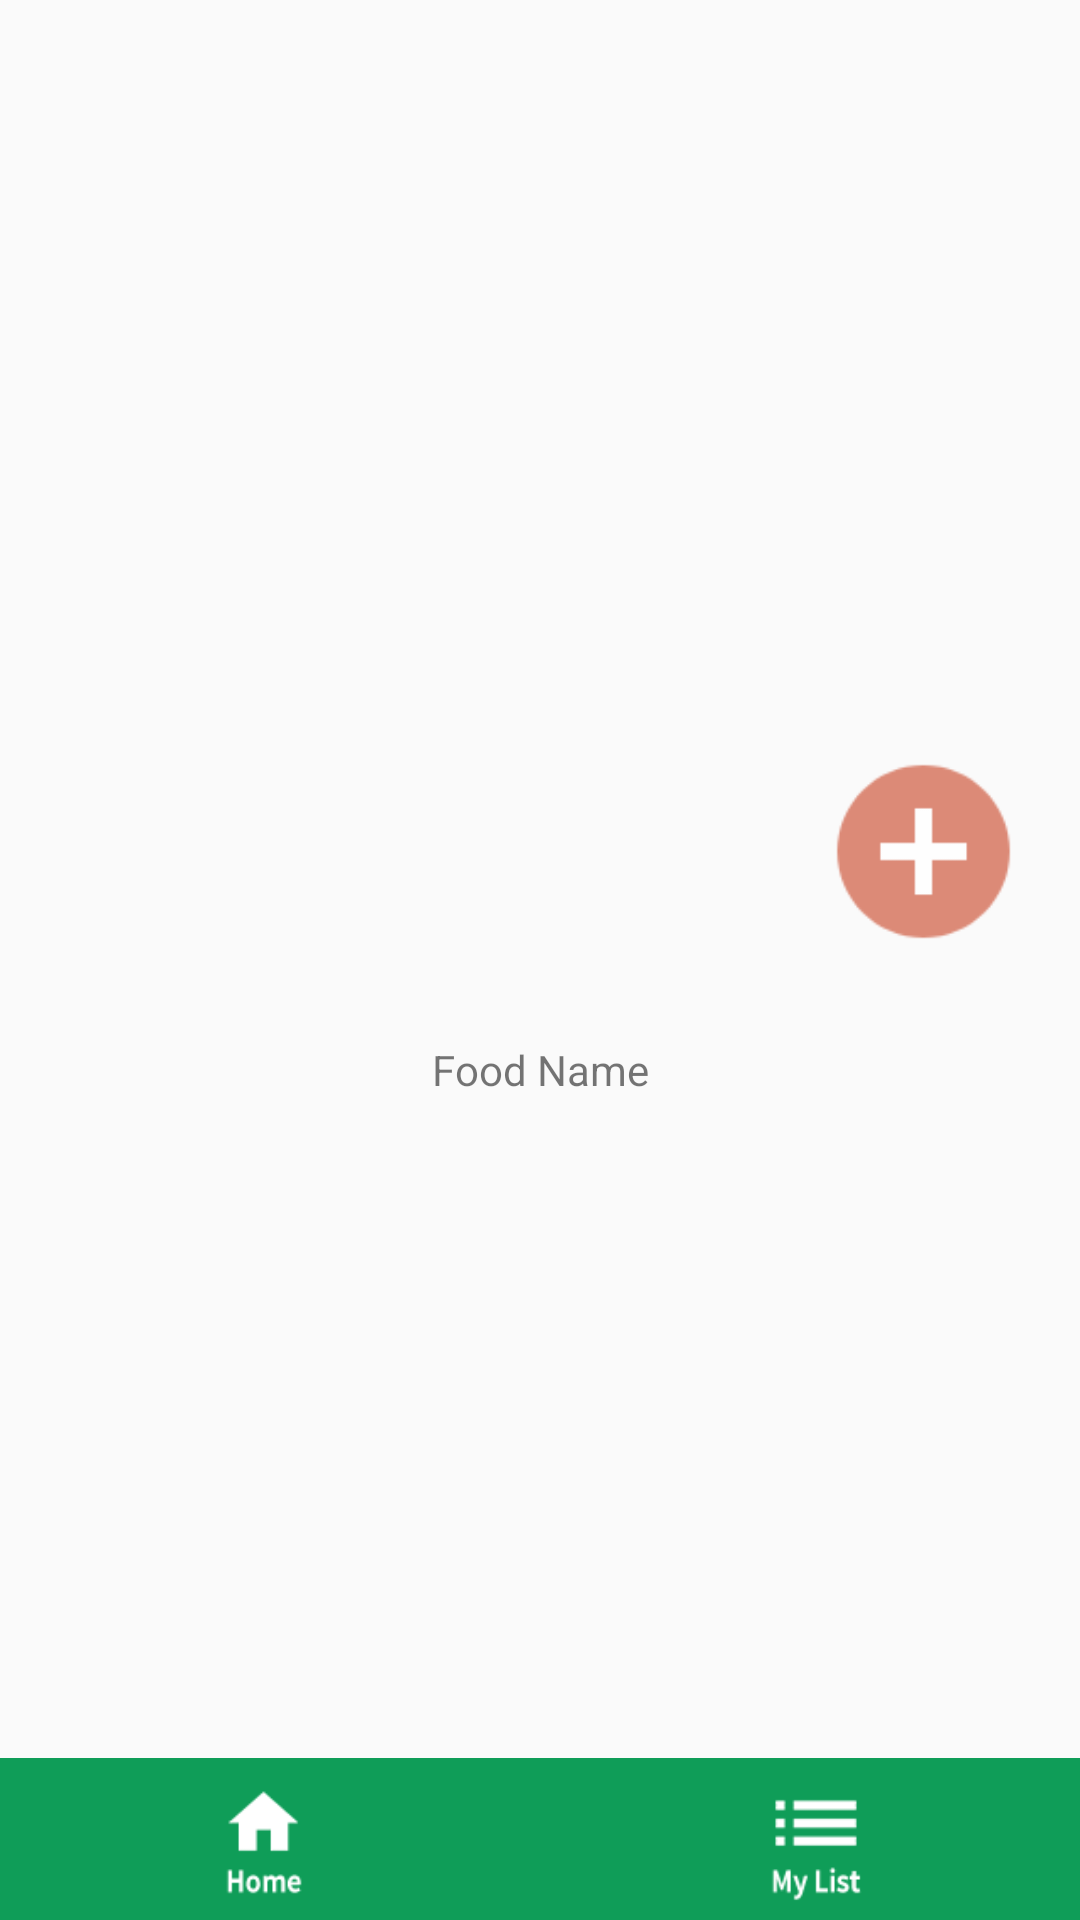

Screen size 1080 × 1920. Icon name, then its box in pixels as box=[x1, y1, x2, y2]:
add: box=[837, 765, 1010, 938]
